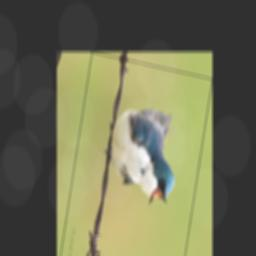Swallow: (97, 99, 187, 213)
